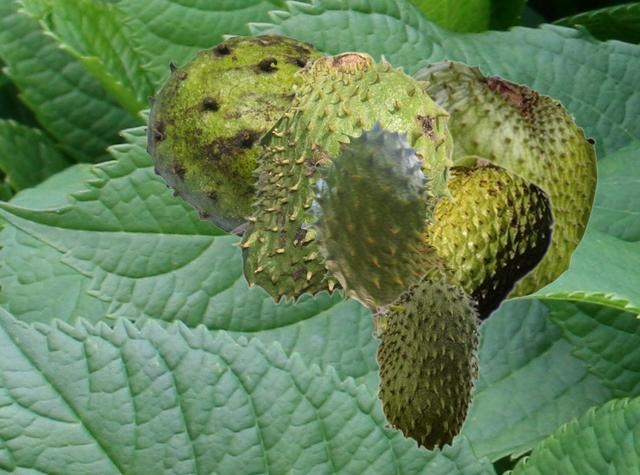guyabano: (229, 51, 455, 305), (413, 55, 597, 300), (143, 32, 325, 237), (301, 118, 455, 330), (429, 154, 555, 328), (371, 264, 484, 452)
